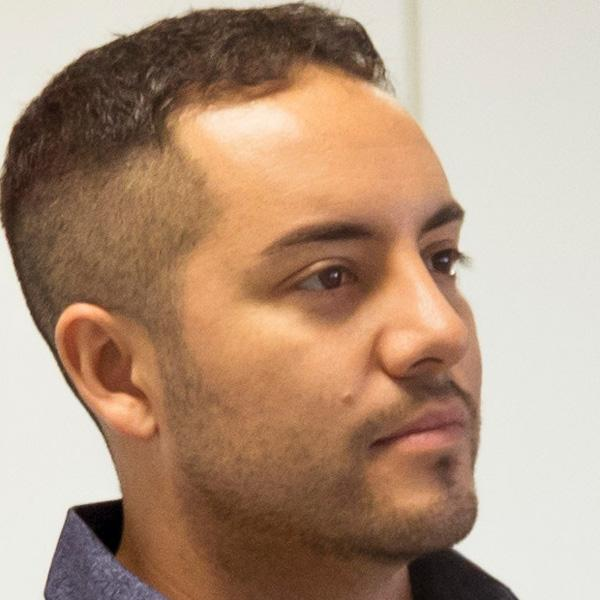Eyes: (271, 248, 371, 312), (417, 237, 466, 289)
